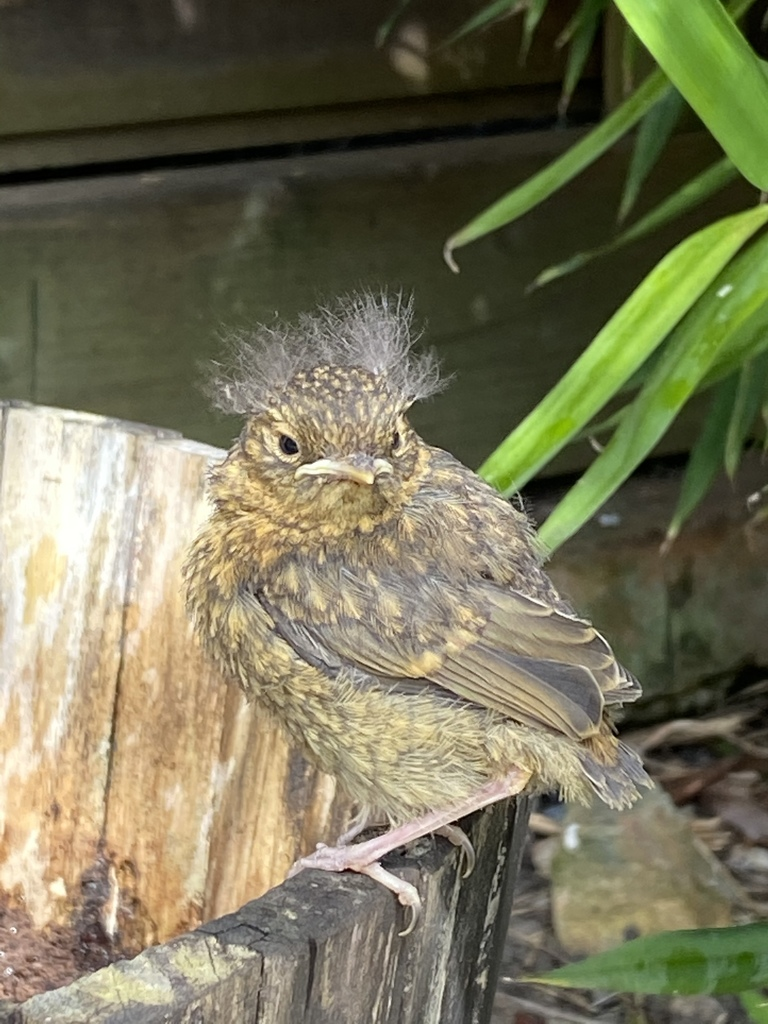Erithacus_Rubecula: (178, 281, 657, 937)
